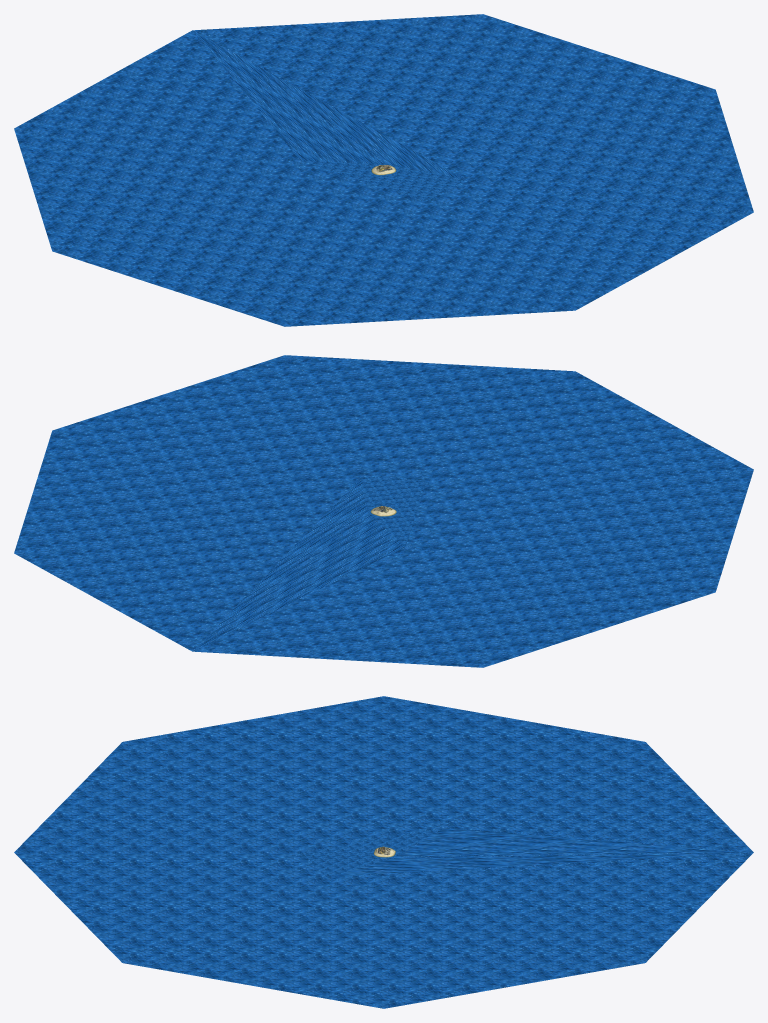
The model's file is ENVO_DesertIsland.obj.
3 views of the same model, one above another, from view 1: azimuth 30°, elevation 25°; view 2: azimuth 150°, elevation 25°; view 3: azimuth 270°, elevation 25° (orthographic). The views are drawn at different scales.
Parts seen in each view (by area): view 1: DesertIsland; view 2: DesertIsland; view 3: DesertIsland.
Boxes of the visible parts, bbox=[...] form: DesertIsland: bbox=[14, 14, 753, 326]; DesertIsland: bbox=[14, 355, 753, 667]; DesertIsland: bbox=[14, 696, 753, 1008].
Size of what is drawn, in the model's own units: 50000 by 366 by 50000.
4 materials, 4 textured.
